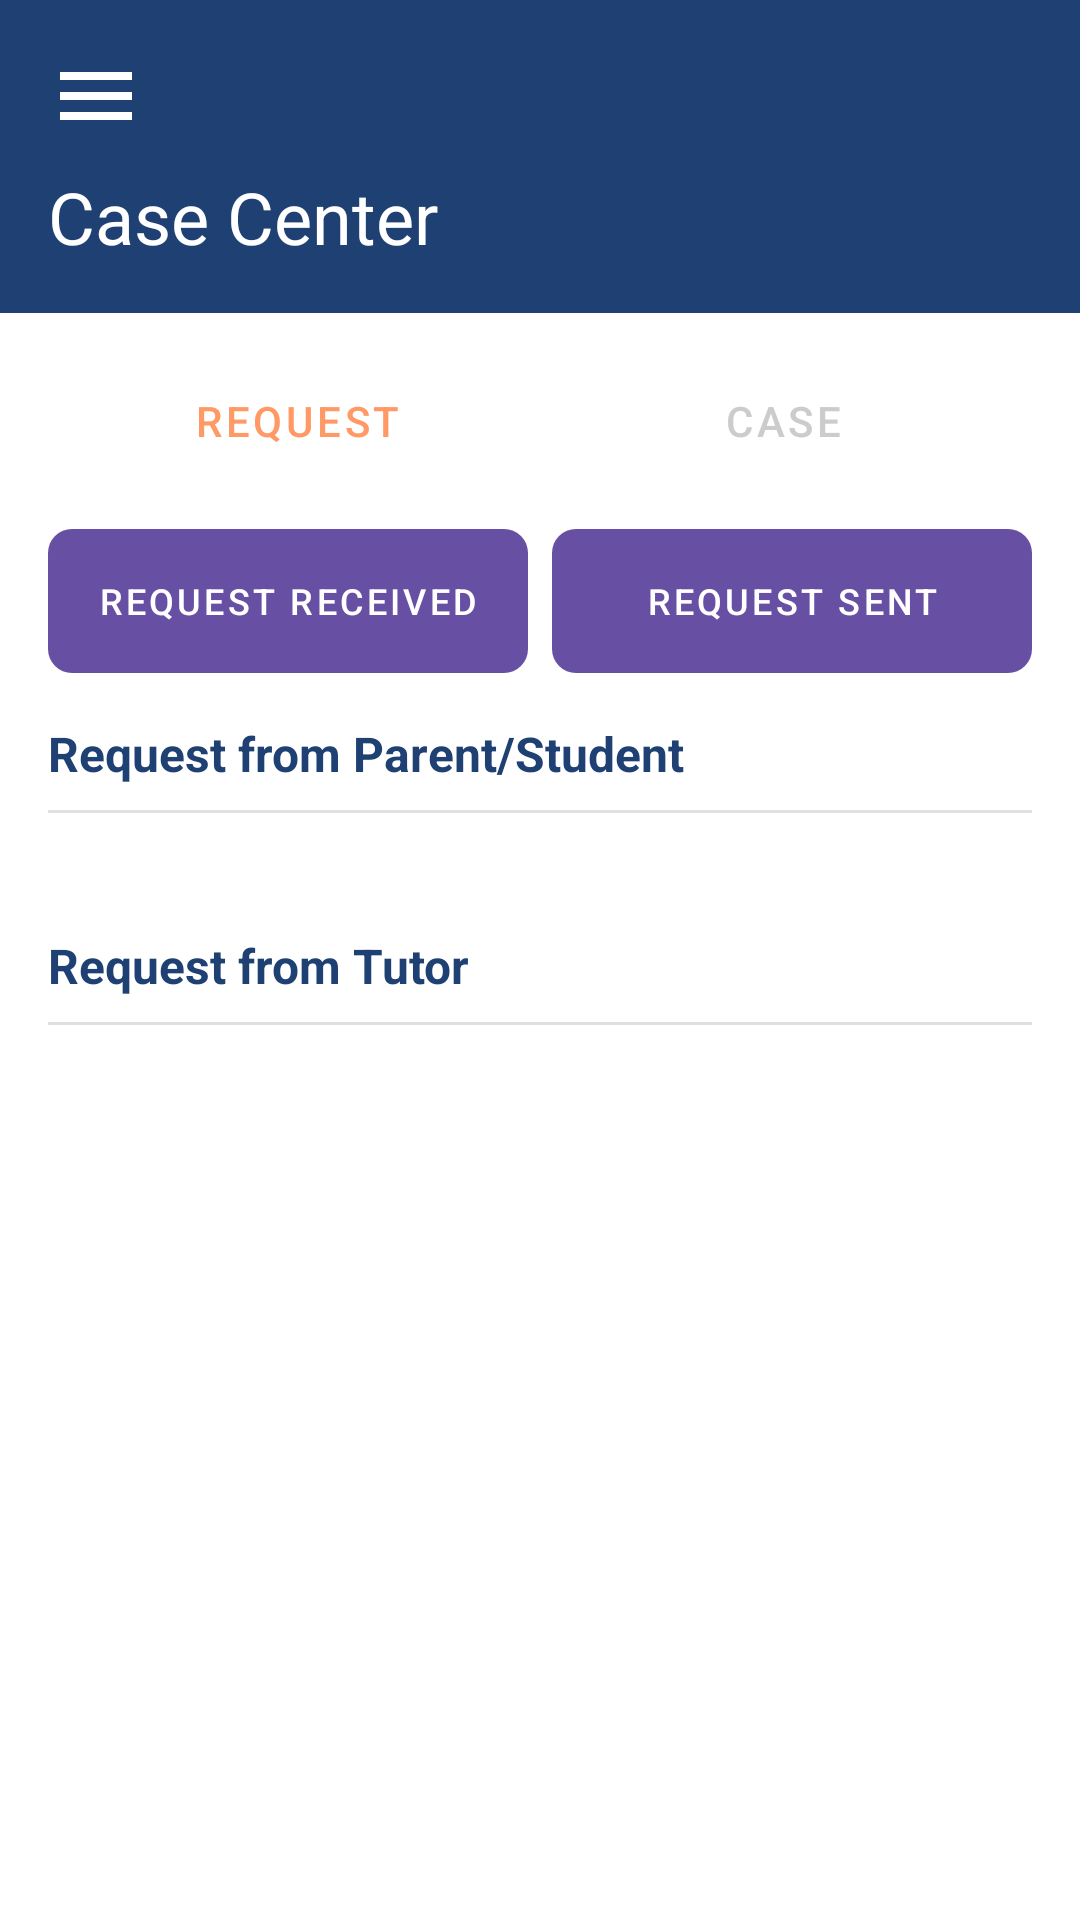

Icon click points for this 1080px×1920px phone screenshot, format [x,y]:
Menu: [96,96]
